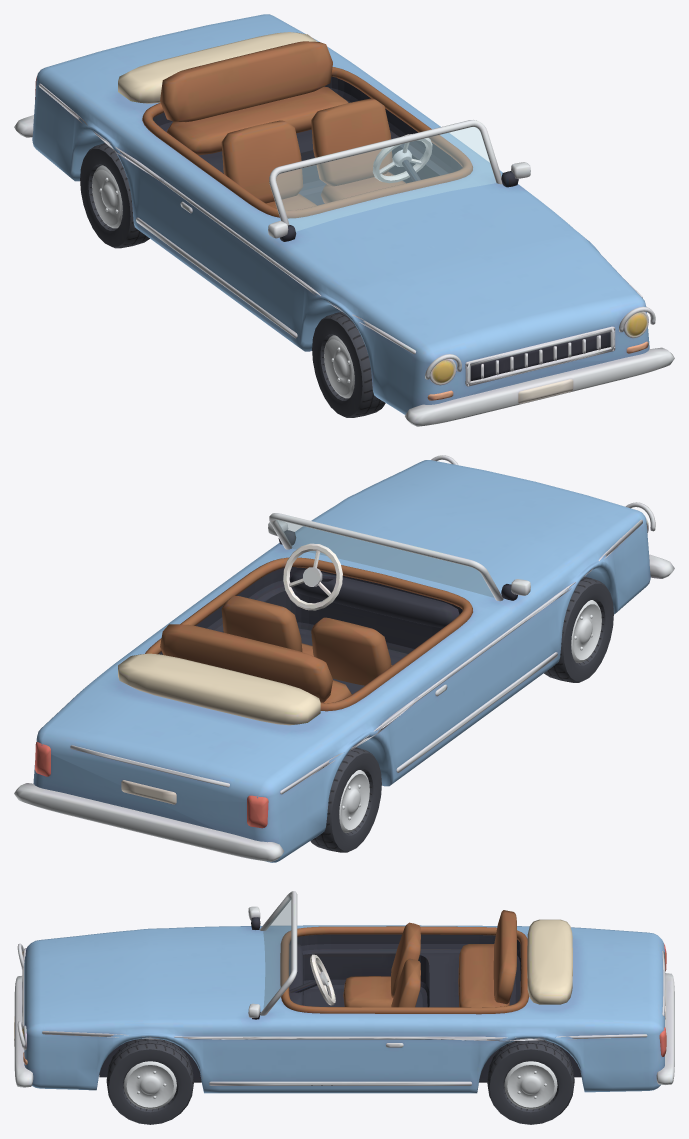
File: 1960s-convertible.glb
3 renders of one model, top to bottom at view 1: azimuth 30°, elevation 25°; view 2: azimuth 150°, elevation 25°; view 3: azimuth 270°, elevation 25°, orthographic. The views are drawn at different scales.
Visible parts, largest first — view 1: 1960s-convertible_body, 1960s-convertible_windows, 1960s-convertible_wheel_fr, 1960s-convertible_wheel_rr; view 2: 1960s-convertible_body, 1960s-convertible_wheel_rr, 1960s-convertible_windows, 1960s-convertible_wheel_fr; view 3: 1960s-convertible_body, 1960s-convertible_wheel_fl, 1960s-convertible_wheel_rl, 1960s-convertible_windows.
Part boxes in pixels (<box>): 1960s-convertible_body: <box>14,14,674,426</box>; 1960s-convertible_windows: <box>276,127,495,231</box>; 1960s-convertible_wheel_fr: <box>312,312,385,417</box>; 1960s-convertible_wheel_rr: <box>80,143,149,248</box>; 1960s-convertible_body: <box>14,455,674,862</box>; 1960s-convertible_wheel_rr: <box>310,747,381,852</box>; 1960s-convertible_windows: <box>276,520,494,597</box>; 1960s-convertible_wheel_fr: <box>544,576,613,682</box>; 1960s-convertible_body: <box>14,891,674,1093</box>; 1960s-convertible_wheel_fl: <box>106,1038,193,1124</box>; 1960s-convertible_wheel_rl: <box>487,1040,574,1124</box>; 1960s-convertible_windows: <box>263,897,290,1007</box>.
Bounding box in the file's own units: 1.84 × 1.17 × 4.83.
18 materials, 5 textured.
